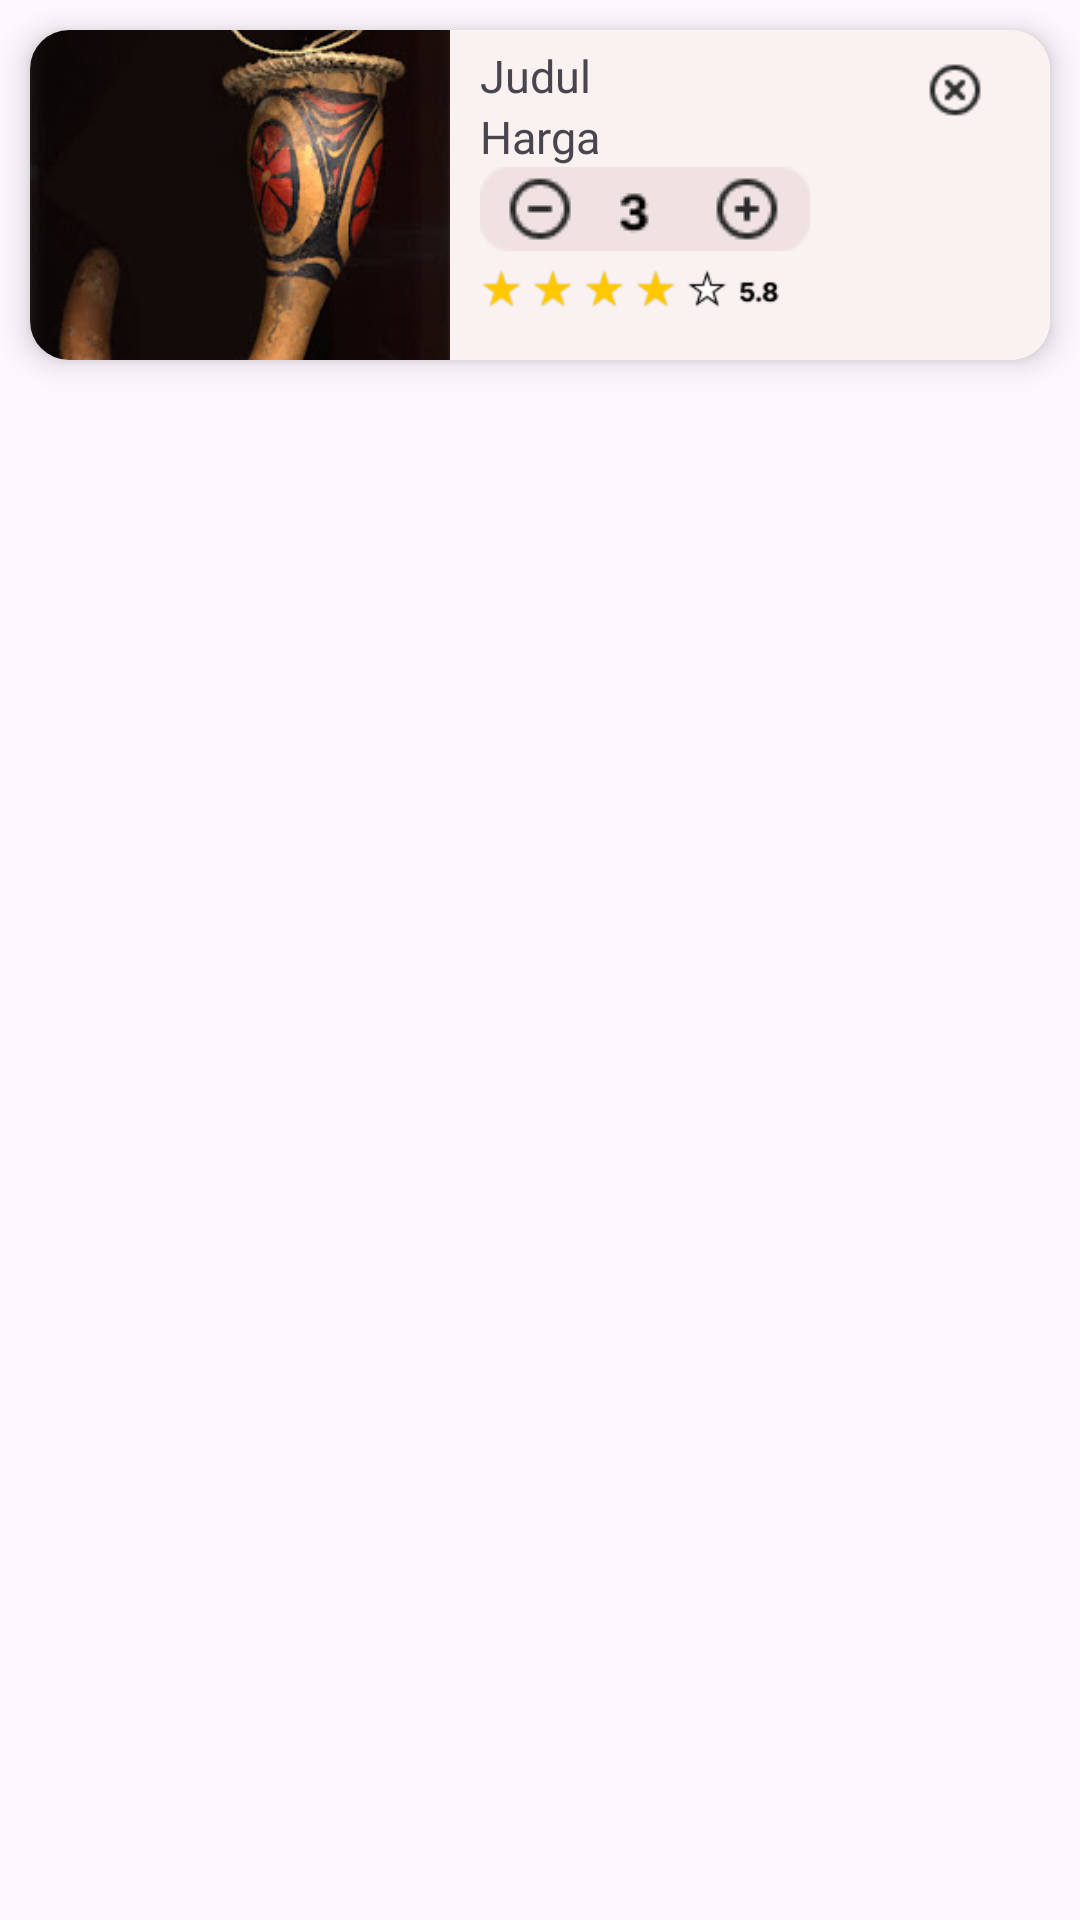

Screen size 1080px×1920px. Icon name, then its center in pixels as (x=x, y=y):
close: (x=955, y=90)
